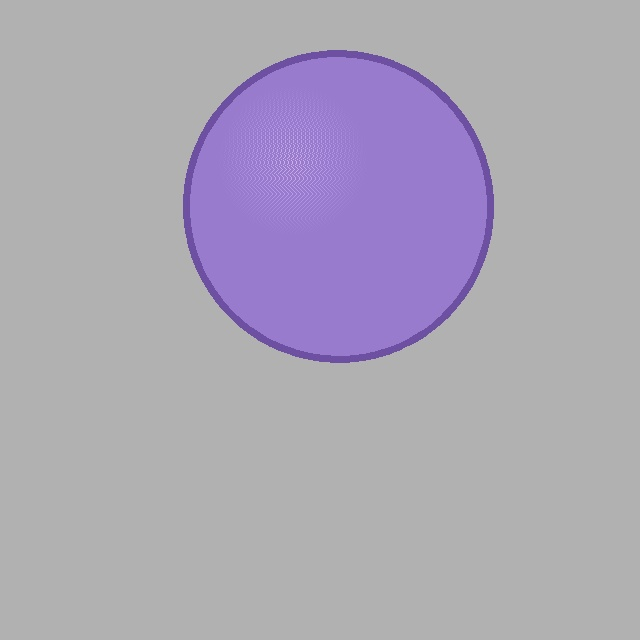lens: (186, 53, 490, 359)
